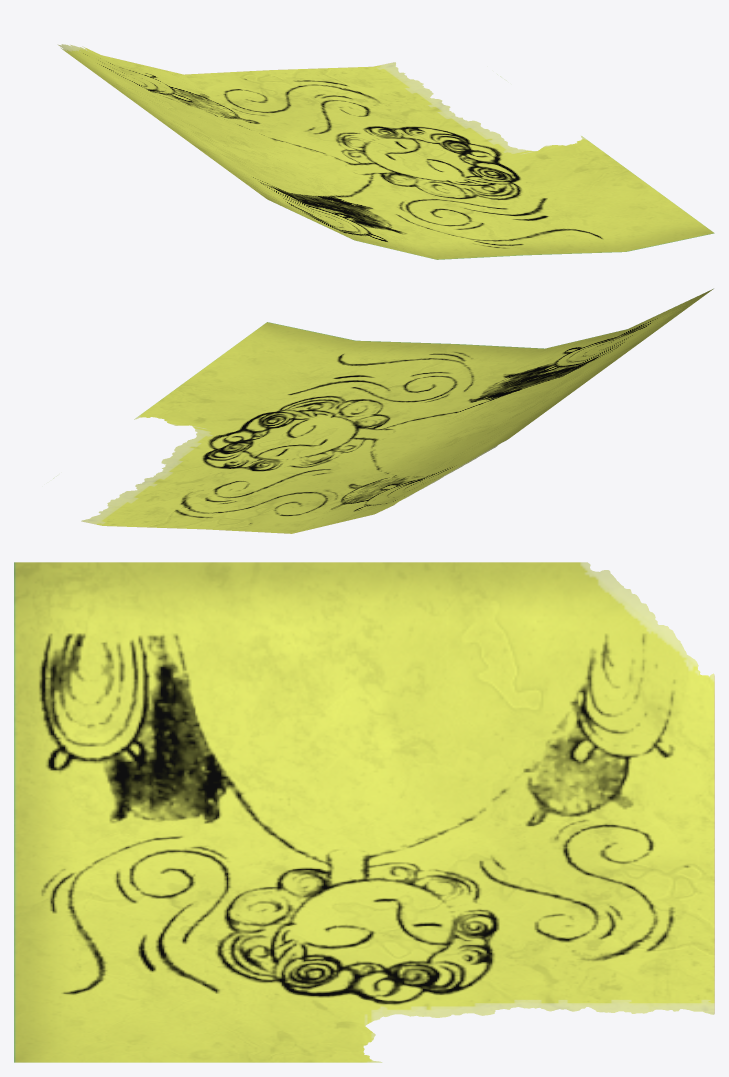
The model's file is SM_PostItNote_07.fbx.
3 views of the same model, one above another, from view 1: azimuth 30°, elevation 25°; view 2: azimuth 150°, elevation 25°; view 3: azimuth 270°, elevation 25° (orthographic). The views are drawn at different scales.
Visible parts, largest first — view 1: SM_PostItNote_07_LOD0; view 2: SM_PostItNote_07_LOD0; view 3: SM_PostItNote_07_LOD0.
Part boxes in pixels (<box>): SM_PostItNote_07_LOD0: <box>57,44,714,259</box>; SM_PostItNote_07_LOD0: <box>53,288,713,533</box>; SM_PostItNote_07_LOD0: <box>14,562,714,1062</box>.
Bounding box in the file's own units: 12.09 × 11.84 × 3.69.
